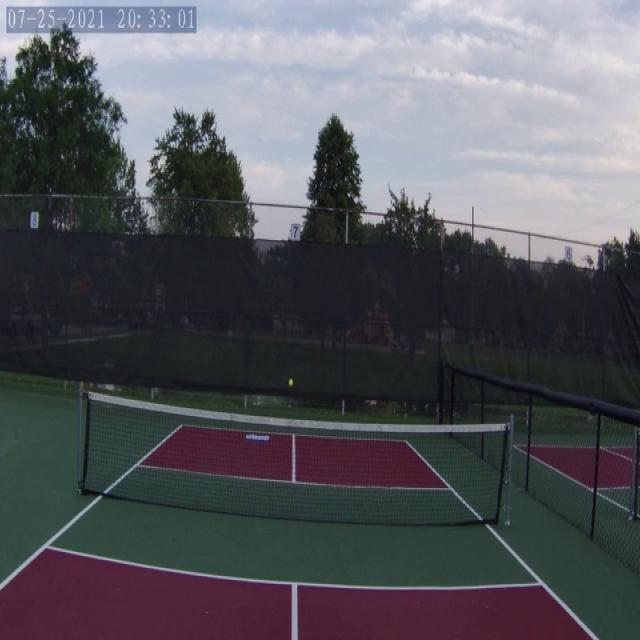ball: (284, 372, 300, 390)
